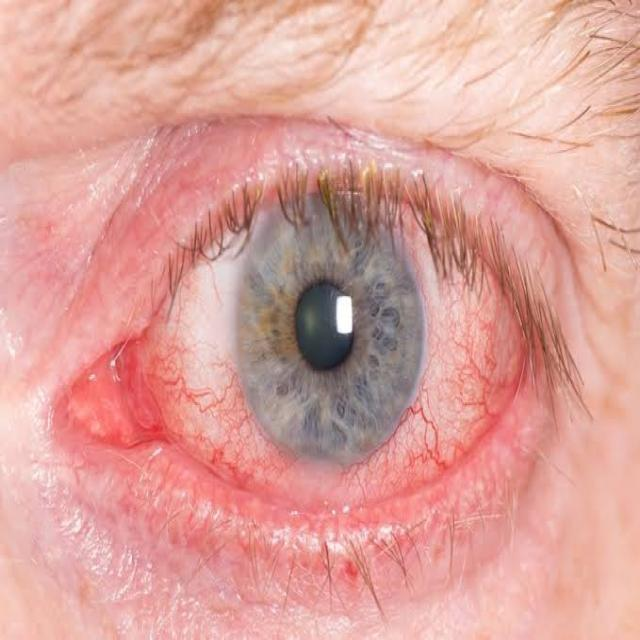Conjunctivitis: (45, 234, 543, 504)
